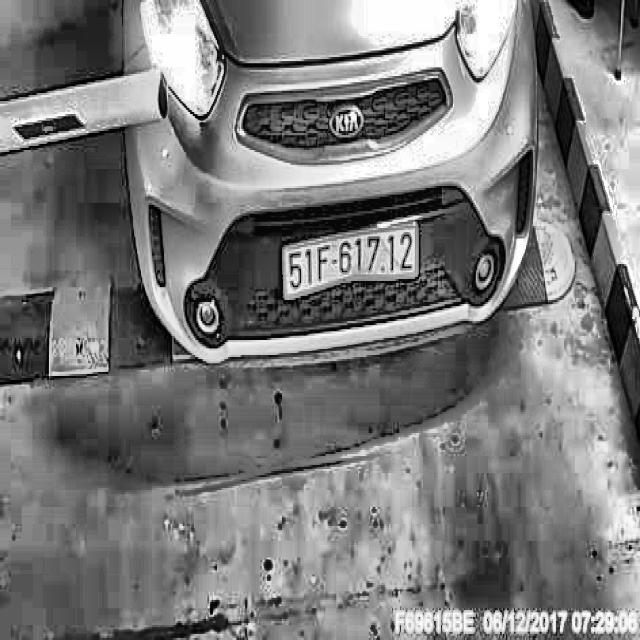plate: (280, 218, 424, 302)
